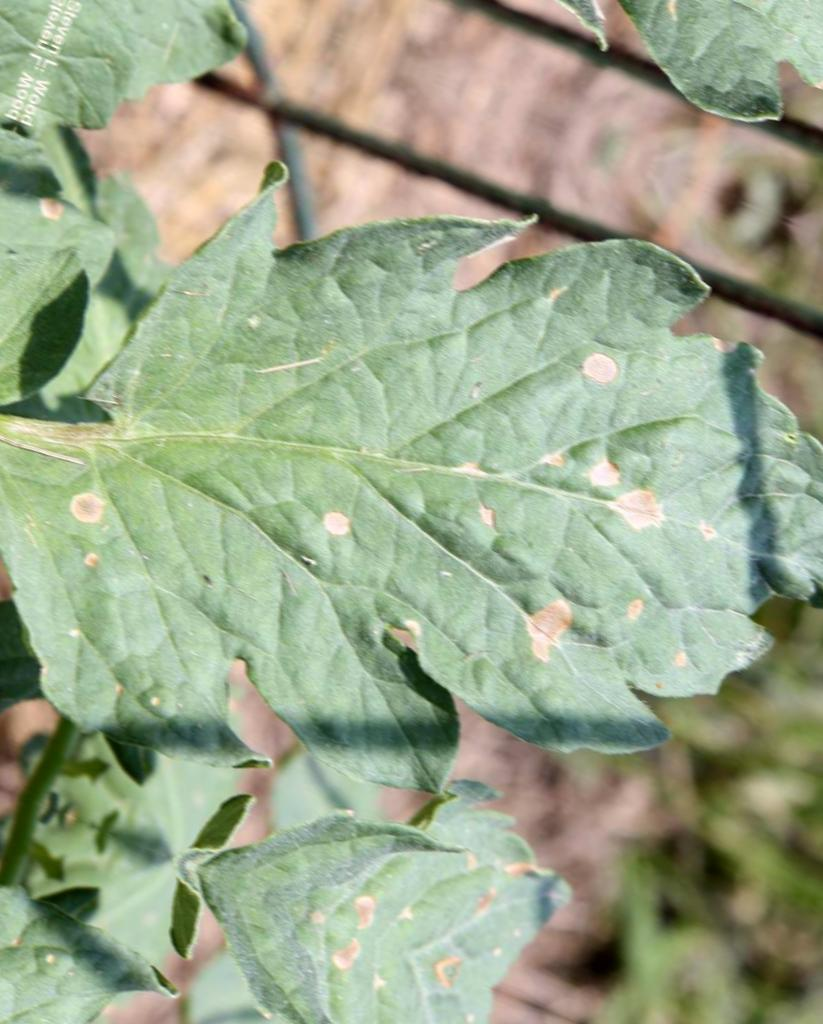Tomato leaf bacterial spot: (0, 21, 823, 984)
